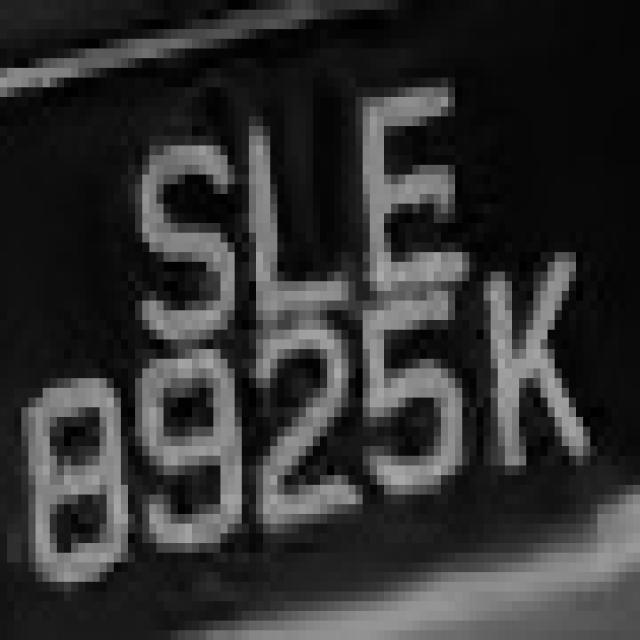2: (242, 300, 362, 552)
5: (341, 281, 455, 514)
8: (7, 349, 128, 621)
9: (128, 320, 256, 582)
E: (334, 68, 484, 320)
K: (470, 204, 590, 504)
L: (206, 106, 356, 330)
S: (121, 106, 235, 358)
